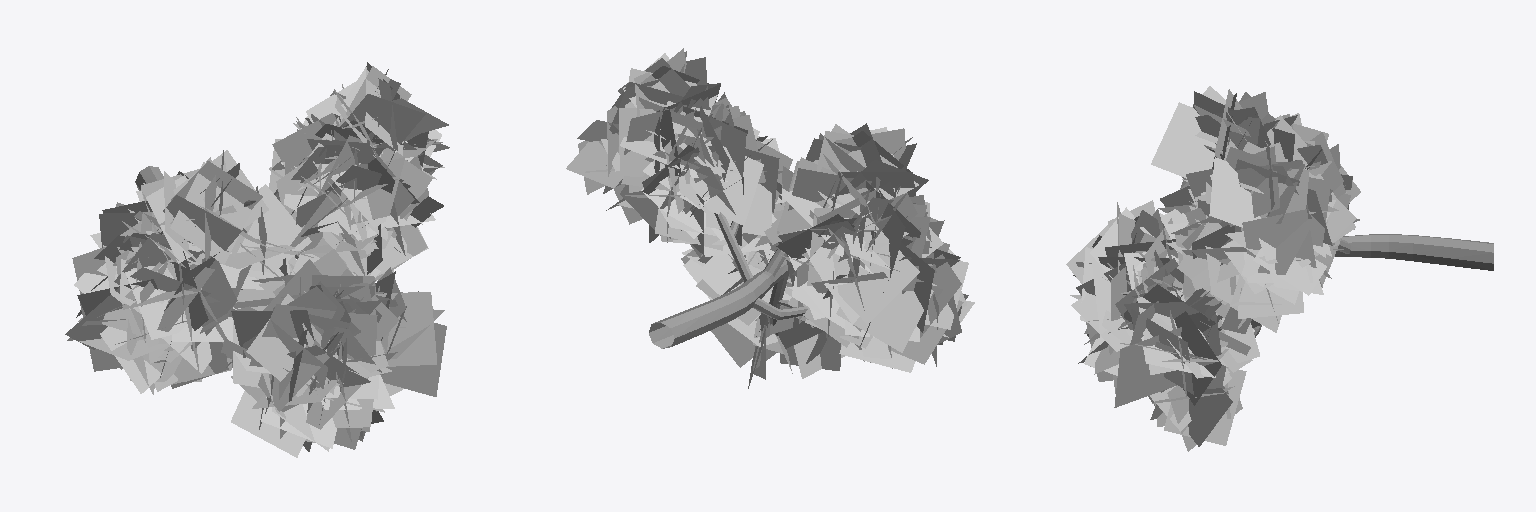
File: NormalTree_5_Cylinder.obj
3 views of the same model, side by side, from view 1: azimuth 30°, elevation 25°; view 2: azimuth 150°, elevation 25°; view 3: azimuth 270°, elevation 25° (orthographic).
Parts seen in each view (by area): view 1: NormalTree_5_Cylinder.005; view 2: NormalTree_5_Cylinder.005; view 3: NormalTree_5_Cylinder.005.
Boxes of the visible parts, box(x1,y1,x2,y2) form: NormalTree_5_Cylinder.005: box(65, 62, 449, 457); NormalTree_5_Cylinder.005: box(566, 48, 974, 388); NormalTree_5_Cylinder.005: box(1066, 86, 1493, 451).
Bounding box in the file's own units: 3.1 × 2.57 × 2.98.